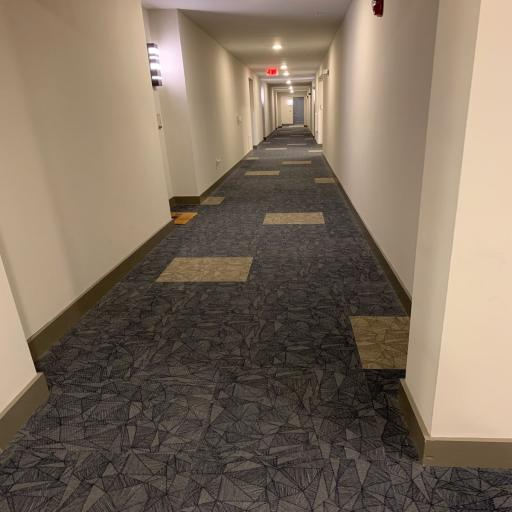corridor: (294, 97, 304, 125)
